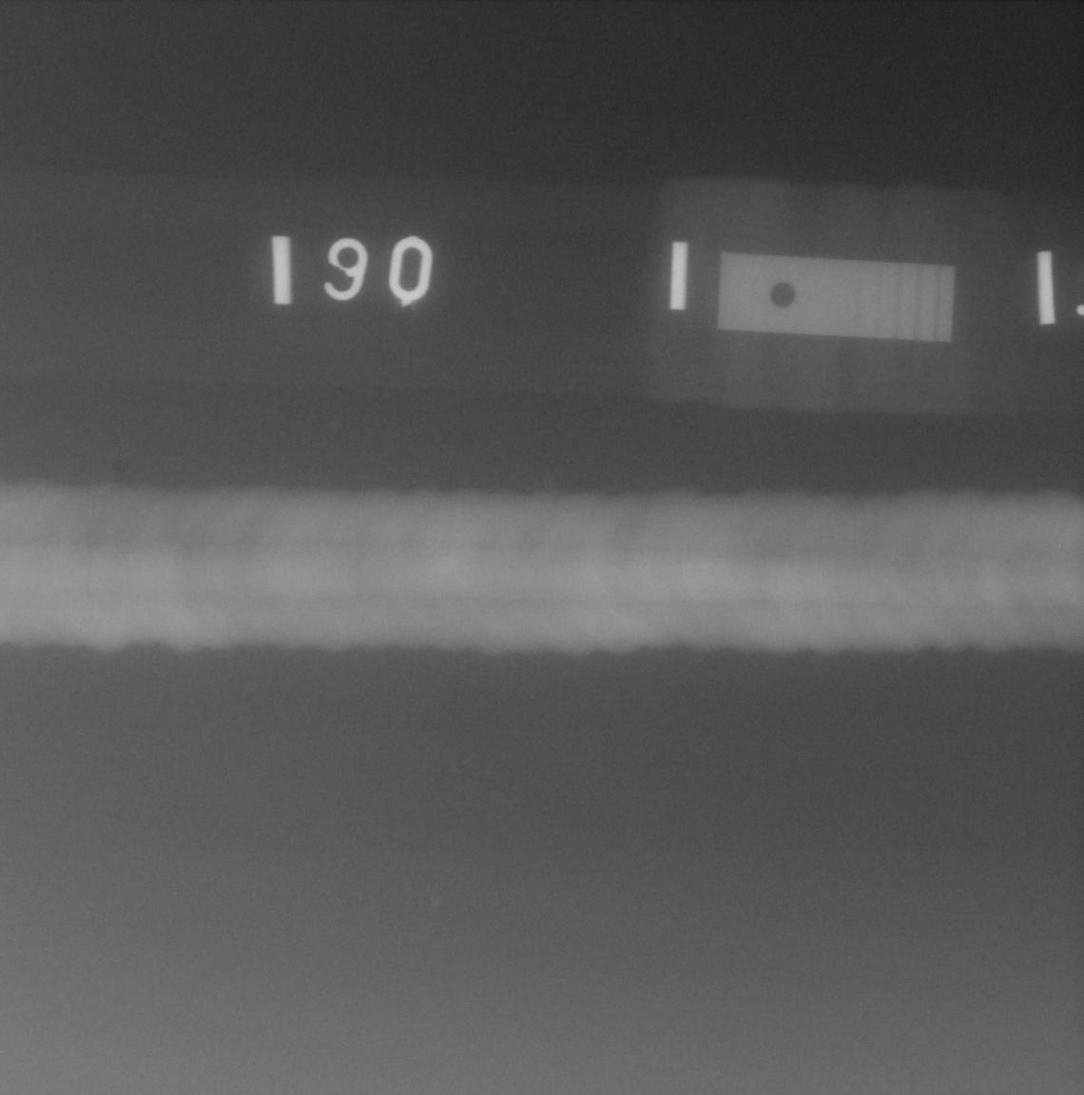Inclusion: (1004, 559, 1011, 564)
Pore/Porosity: (677, 560, 682, 565)
Reference Standard 1: (717, 251, 956, 343)
